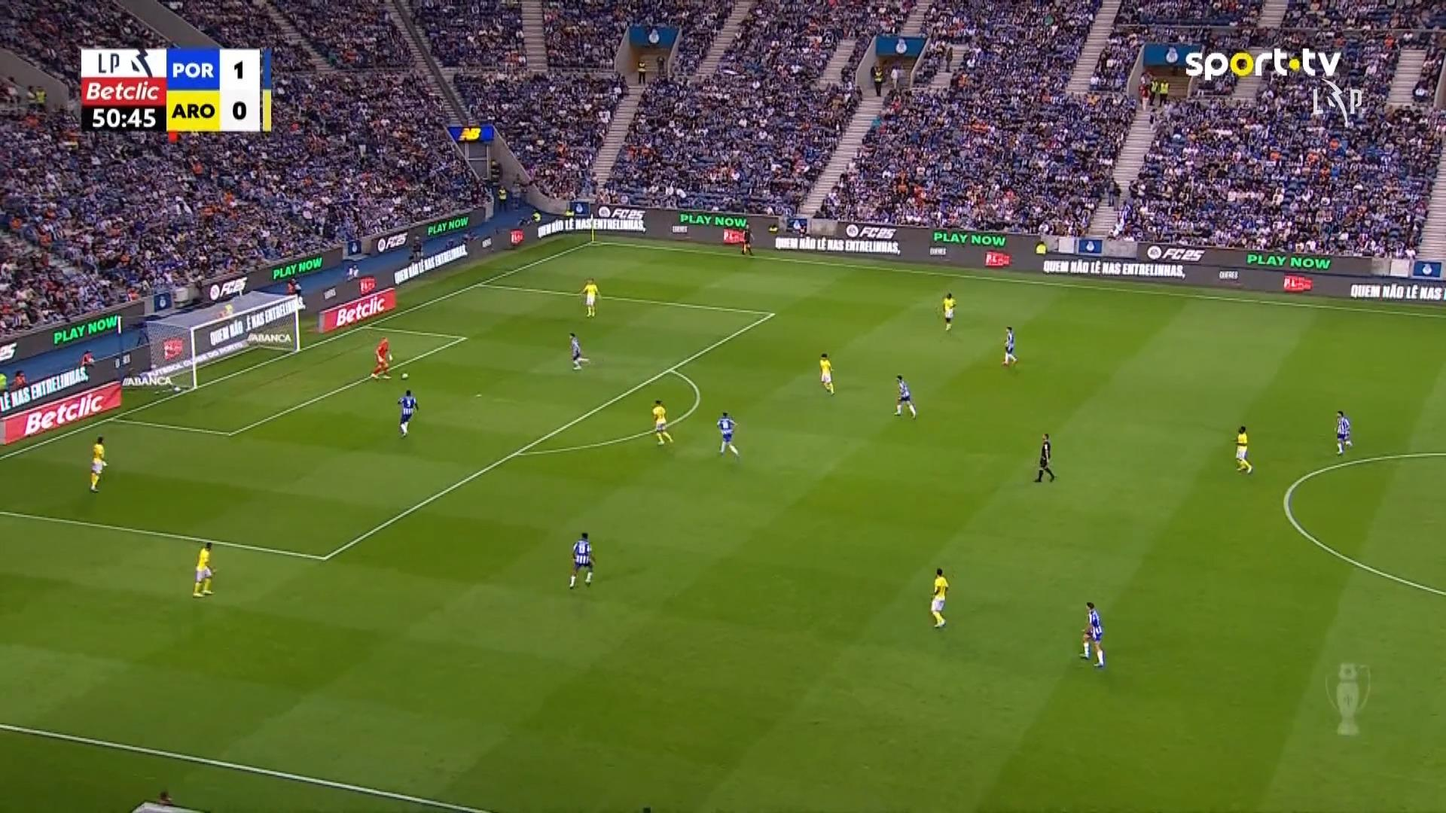goalkeeper: (369, 336, 392, 379)
player: (567, 531, 596, 589), (1080, 601, 1105, 668), (192, 540, 215, 597), (929, 567, 948, 628), (892, 373, 917, 418), (88, 435, 107, 492), (716, 411, 739, 458), (396, 388, 418, 437), (651, 398, 673, 445), (1234, 425, 1252, 473), (1334, 410, 1353, 455), (578, 277, 599, 317), (818, 352, 835, 394), (1002, 325, 1017, 366), (567, 332, 583, 370), (941, 291, 956, 331)
referee: (1033, 432, 1055, 482), (740, 226, 754, 257)
